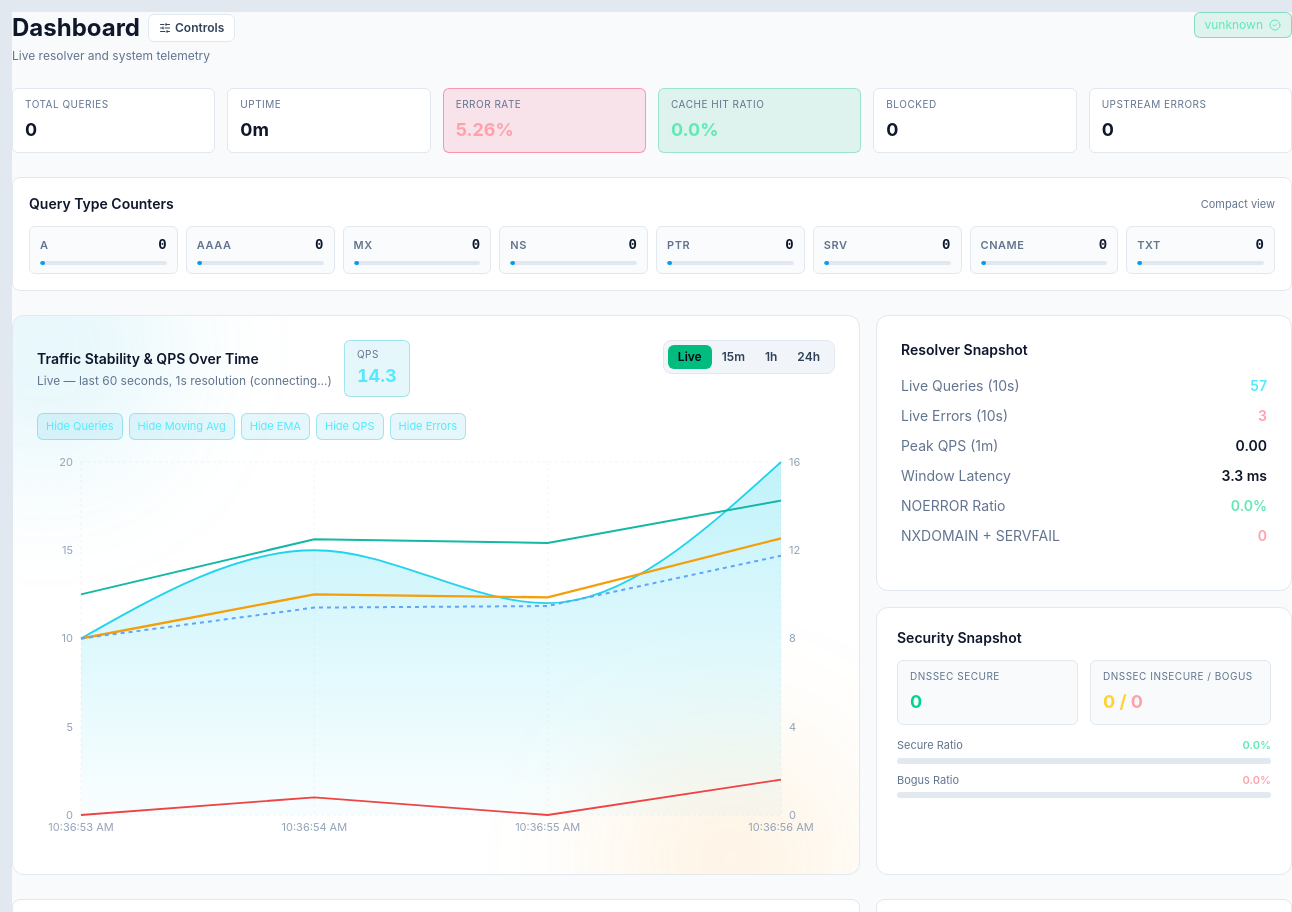
Test: DashboardPage › does not advance the success timestamp when every critical fetch fails
Click the button titled "Toggle dashboard controls" at (192, 28), box [148, 14, 235, 42]
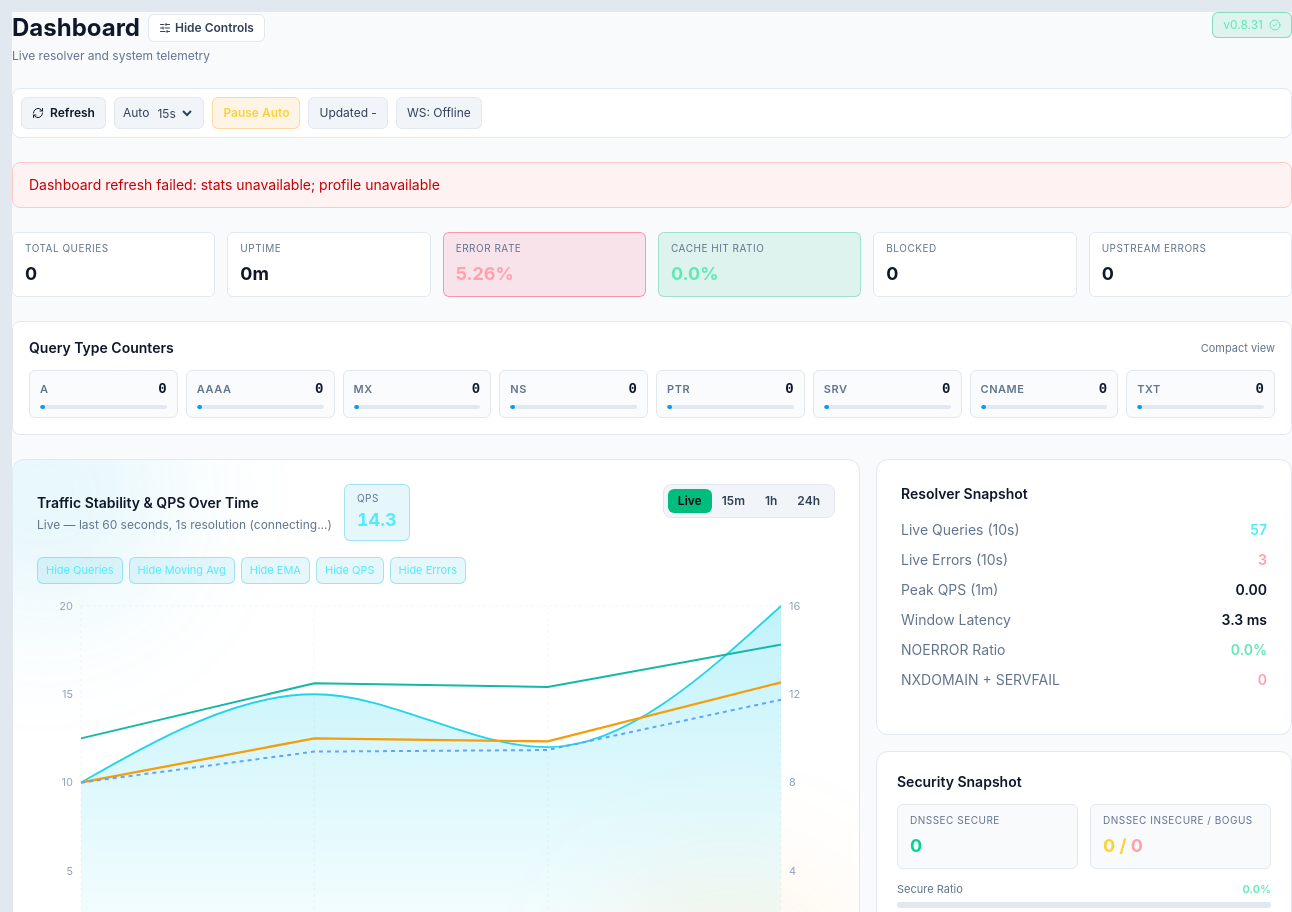
Result: the text "Dashboard refresh failed" is shown at [29, 176, 440, 193]
Result: the text "Updated -" is shown at [308, 97, 388, 129]
